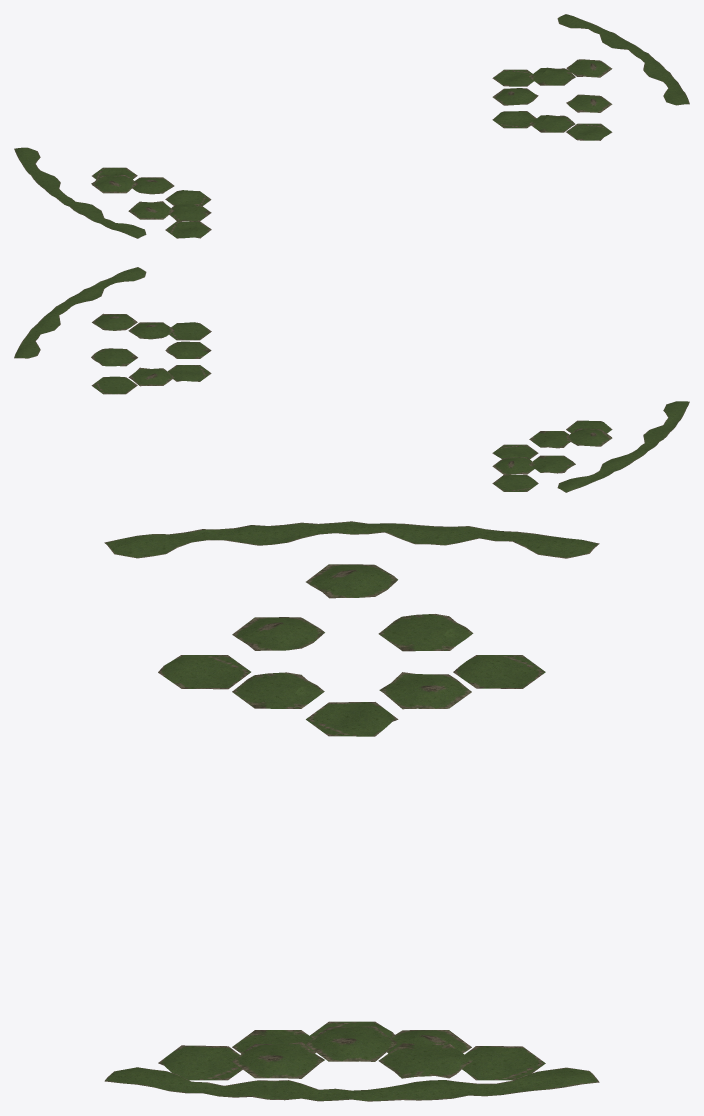
File: HexGarden.dae
3 renders of one model, top to bottom at view 1: azimuth 30°, elevation 25°; view 2: azimuth 150°, elevation 25°; view 3: azimuth 270°, elevation 25°, orthographic. The views are drawn at different scales.
Visible parts, largest first — view 1: HexGarden; view 2: HexGarden; view 3: HexGarden.
Boxes of the visible parts, x1,y1,x2,y2 form: HexGarden: (14,14,689,238); HexGarden: (14,267,689,492); HexGarden: (104,521,599,1101).
Bounding box in the file's own units: 195 × 70.61 × 11.95.
1 material, 1 textured.
